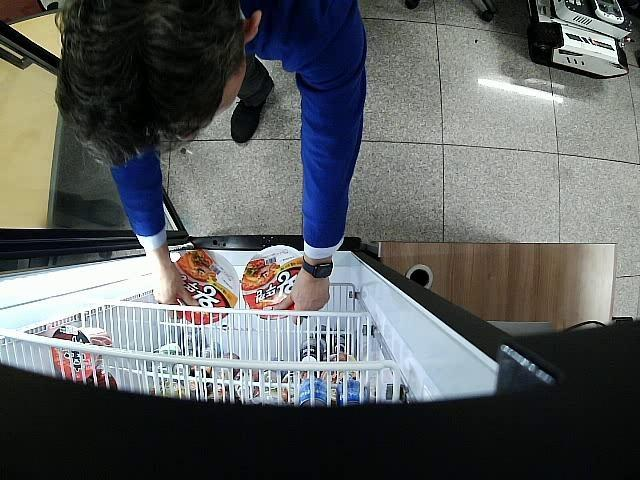10_wangTtukkeong: (174, 250, 239, 324), (242, 244, 304, 320)
